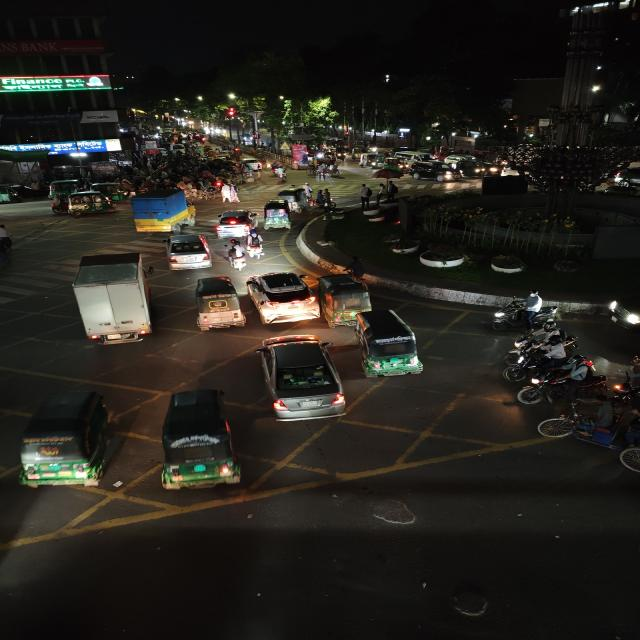car: (252, 334, 347, 424), (244, 268, 320, 325), (160, 232, 214, 272), (602, 294, 640, 336), (212, 208, 258, 238), (408, 160, 454, 182), (245, 158, 265, 170)
cng: (12, 387, 116, 493), (153, 386, 242, 494), (348, 307, 427, 379), (191, 276, 245, 334), (319, 273, 373, 326), (51, 190, 106, 216), (261, 200, 293, 232), (277, 189, 307, 214), (380, 155, 406, 169), (358, 151, 376, 170)
motorcycle: (524, 356, 593, 400), (486, 298, 547, 332), (498, 340, 544, 382), (225, 242, 250, 272), (244, 235, 267, 260), (312, 192, 338, 212), (277, 167, 286, 184)
pedestrian: (343, 255, 370, 281), (358, 184, 373, 207), (227, 182, 241, 205), (375, 184, 388, 206), (220, 183, 233, 204)
rickshaw: (540, 400, 640, 476)
truck: (61, 249, 157, 350), (125, 187, 199, 233)
